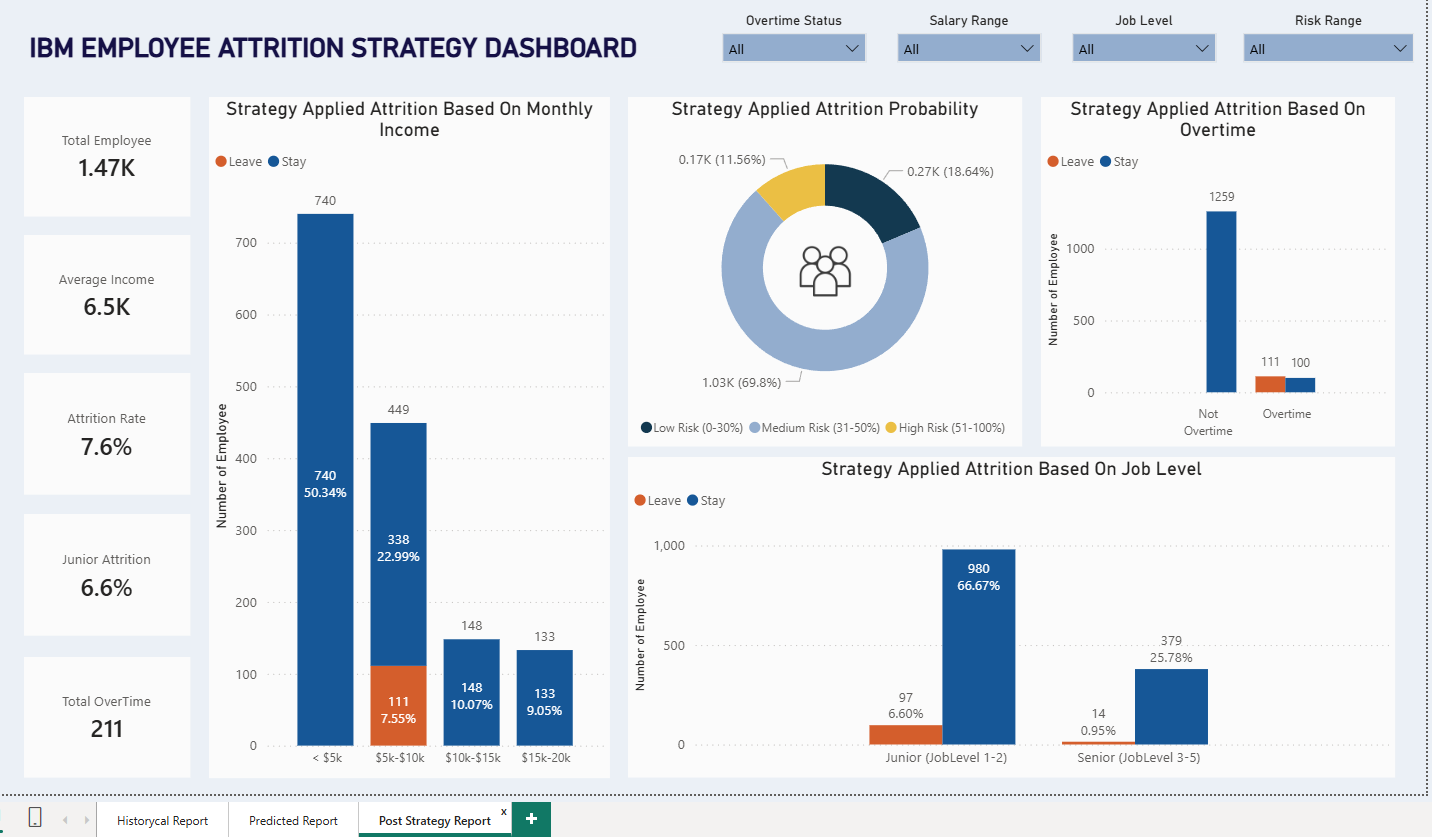

This screenshot's page, from the dashboard's own definition file:
{"tool":"powerbi","page":{"name":"Post Strategy Report","canvas":[1280,720],"ordinal":2},"visuals":[{"type":"cardVisual","title":"Total Employee","fields":{"Data":["CountNonNull(attrition_predictions_result.Attrition)"]},"box":[25.1,95.8,148.7,106.6],"z":0},{"type":"donutChart","title":"Strategy Applied Attrition Probability","fields":{"Y":["attrition_predictions_result.Employee Count"],"Category":["attrition_predictions_result.Post_Risk_Tier"]},"box":[566,95.8,352.8,313.4],"z":1000},{"type":"clusteredColumnChart","title":"Strategy Applied Attrition Based On Overtime","fields":{"Category":["attrition_predictions_result.Post_OverTime_Status"],"Y":["attrition_predictions_result.Employee Count"],"Series":["attrition_predictions_result.Post_Attrition_Label"]},"box":[935.8,95.8,317,313.4],"z":2000},{"type":"columnChart","title":"Strategy Applied Attrition Based On Monthly Income","fields":{"Category":["attrition_predictions_result.Salary_Bin"],"Y":["CountNonNull(attrition_predictions_result.EmployeeNumber)"],"Series":["attrition_predictions_result.Post_Attrition_Label"]},"box":[190.7,95.8,359.1,609.9],"z":3000},{"type":"clusteredColumnChart","title":"Strategy Applied Attrition Based On Job Level","fields":{"Category":["attrition_predictions_result.experience_tier"],"Y":["CountNonNull(attrition_predictions_result.EmployeeNumber)"],"Series":["attrition_predictions_result.Post_employment_status"]},"box":[566,418.2,686.9,287.5],"z":4000},{"type":"textbox","title":"IBM EMPLOYEE ATTRITION STRATEGY DASHBOARD","box":[25.1,37.6,591.9,23.3],"z":5000},{"type":"cardVisual","title":"Total Employee","fields":{"Data":["Avg(attrition_predictions_result.MonthlyIncome)"]},"box":[25.1,219.4,148.7,107.5],"z":6000},{"type":"cardVisual","title":"Total Employee","fields":{"Data":["attrition_predictions_result.Post Attrition Rate"]},"box":[25.1,343,148.7,109.3],"z":7000},{"type":"cardVisual","title":"Total Employee","fields":{"Data":["attrition_predictions_result.Post Junior Attrition Rate"]},"box":[25.1,469.3,148.7,109.3],"z":8000},{"type":"cardVisual","title":"Total Employee","fields":{"Data":["Sum(attrition_predictions_result.OverTime)"]},"box":[25.1,597.3,148.7,108.4],"z":9000},{"type":"image","box":[719.1,228.4,46.6,47.5],"z":10000},{"type":"slicer","title":"Overtime Status","fields":{"Values":["employee_attrition_cleaned.OverTime_Status"]},"box":[640.3,20.6,148.7,56.4],"z":11000},{"type":"slicer","title":"Risk Range","fields":{"Values":["attrition_predictions_result.risk_tier"]},"box":[1106.9,20.6,172.8,56.4],"z":12000},{"type":"slicer","title":"Salary Range","fields":{"Values":["attrition_predictions_result.Salary_Bin"]},"box":[797,20.6,148.7,56.4],"z":13000},{"type":"slicer","title":"Job Level","fields":{"Values":["attrition_predictions_result.Dropdown_experience_tier"]},"box":[953.7,20.6,148.7,56.4],"z":14000}]}

Visuals, with their boxes on the page's 1280x720 design canvas (x1, y1, x2, y2). These are canvas units, not pixel positions in the 1432x837 screenshot, which may show the page scaled, cropped or inside an application window:
"Total Employee" cardVisual: rect(25, 96, 174, 202)
"Strategy Applied Attrition Probability" donutChart: rect(566, 96, 919, 409)
"Strategy Applied Attrition Based On Overtime" clusteredColumnChart: rect(936, 96, 1253, 409)
"Strategy Applied Attrition Based On Monthly Income" columnChart: rect(191, 96, 550, 706)
"Strategy Applied Attrition Based On Job Level" clusteredColumnChart: rect(566, 418, 1253, 706)
"IBM EMPLOYEE ATTRITION STRATEGY DASHBOARD" textbox: rect(25, 38, 617, 61)
"Total Employee" cardVisual: rect(25, 219, 174, 327)
"Total Employee" cardVisual: rect(25, 343, 174, 452)
"Total Employee" cardVisual: rect(25, 469, 174, 579)
"Total Employee" cardVisual: rect(25, 597, 174, 706)
image: rect(719, 228, 766, 276)
"Overtime Status" slicer: rect(640, 21, 789, 77)
"Risk Range" slicer: rect(1107, 21, 1280, 77)
"Salary Range" slicer: rect(797, 21, 946, 77)
"Job Level" slicer: rect(954, 21, 1102, 77)
